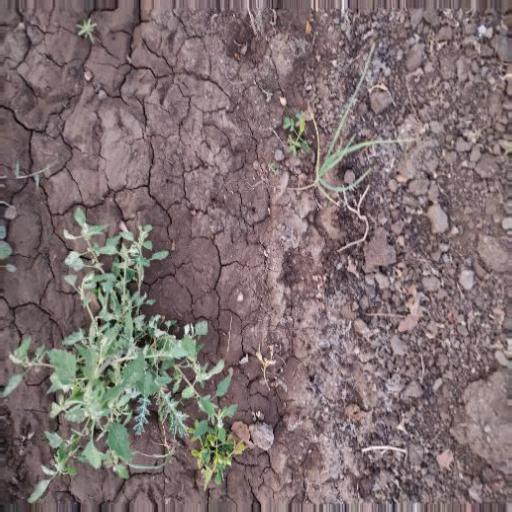weed: (22, 234, 240, 473)
